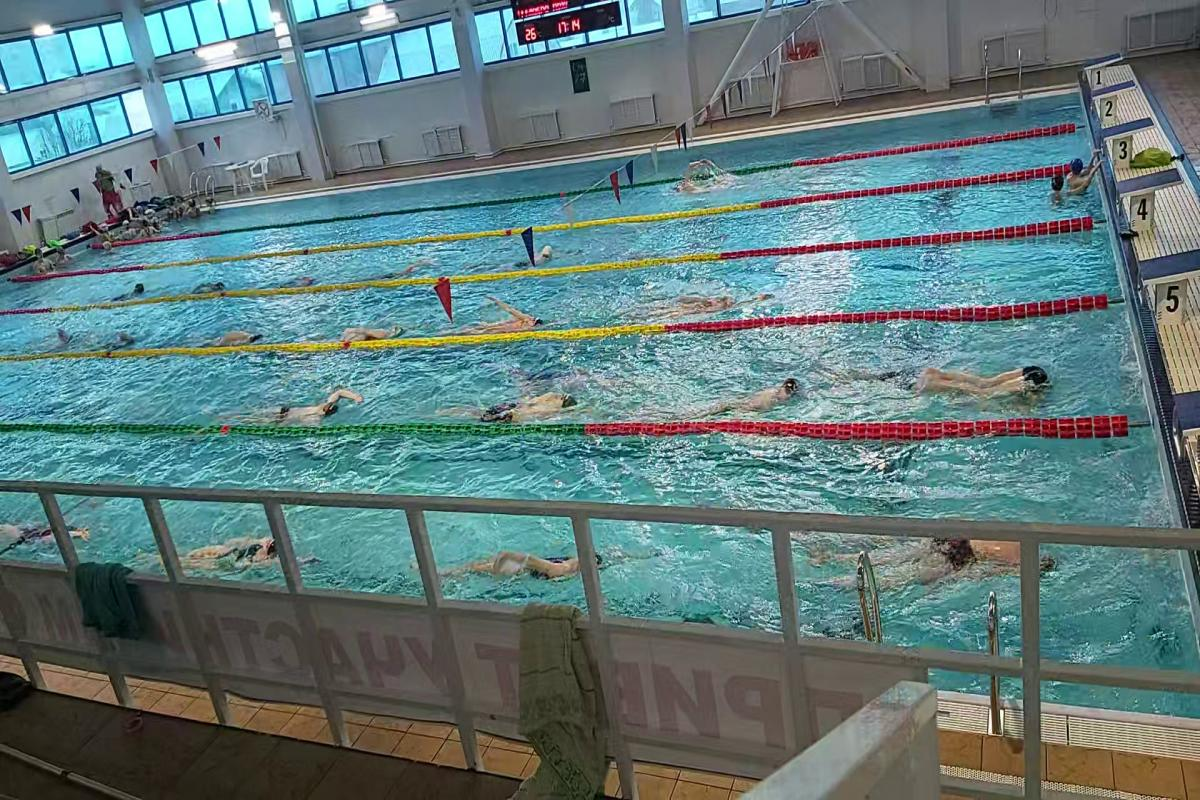swimmer: (907, 349, 1068, 407), (870, 539, 1019, 599), (440, 542, 582, 598), (453, 388, 589, 426), (253, 384, 366, 427), (184, 534, 280, 580), (721, 369, 805, 418), (469, 294, 544, 328), (2, 516, 52, 553), (678, 158, 723, 196), (340, 316, 409, 340), (210, 324, 269, 348), (194, 277, 228, 295), (538, 243, 560, 266)
